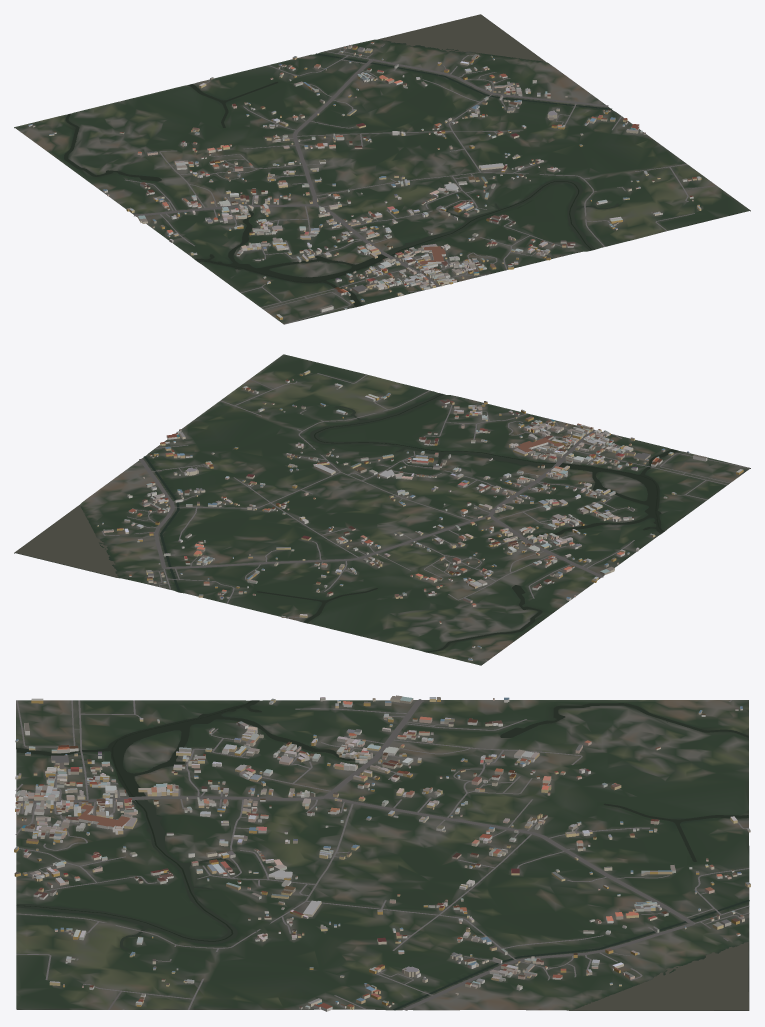
3 renders of one model, top to bottom at view 1: azimuth 30°, elevation 25°; view 2: azimuth 150°, elevation 25°; view 3: azimuth 270°, elevation 25°, orthographic. The views are drawn at different scales.
Parts seen in each view (by area): view 1: ground, buildings, water, roads; view 2: ground, buildings, water, roads; view 3: ground, buildings, water, roads.
Boxes of the visible parts, x1=… form: ground: x1=14, y1=15, x2=750, y2=323; buildings: x1=28, y1=42, x2=701, y2=319; water: x1=64, y1=14, x2=618, y2=306; roads: x1=20, y1=44, x2=716, y2=324; ground: x1=14, y1=354, x2=750, y2=665; buildings: x1=97, y1=370, x2=743, y2=660; water: x1=15, y1=393, x2=678, y2=652; roads: x1=102, y1=373, x2=750, y2=660; ground: x1=16, y1=700, x2=749, y2=1010; buildings: x1=14, y1=695, x2=750, y2=1011; water: x1=16, y1=700, x2=749, y2=1010; roads: x1=15, y1=699, x2=749, y2=1010.
Size of the model in its own units: 1418 by 16.95 by 1408.
